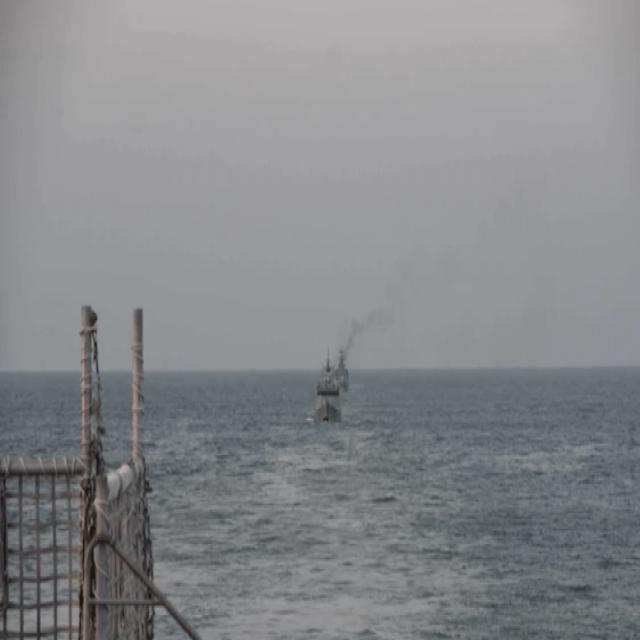navalvessels: (312, 342, 344, 430), (333, 341, 353, 394)
